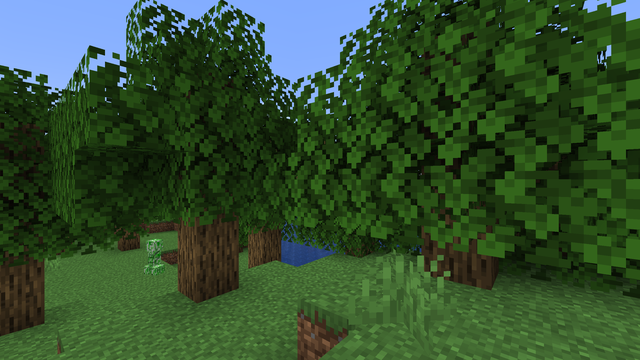creepers: (145, 236, 162, 275)
